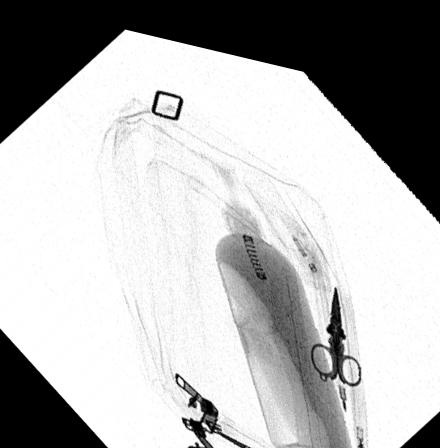Scissors: (306, 268, 362, 370)
